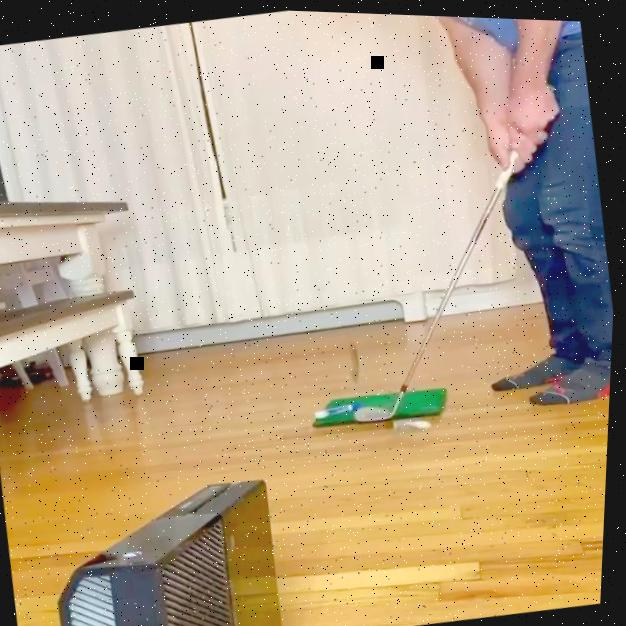ClubHead: (358, 392, 395, 424)
